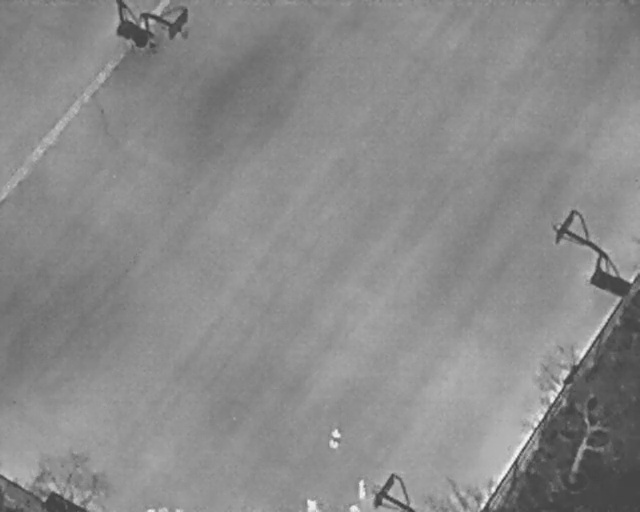Person: (328, 426, 342, 449), (357, 479, 369, 499), (306, 495, 316, 510), (348, 502, 361, 510)
